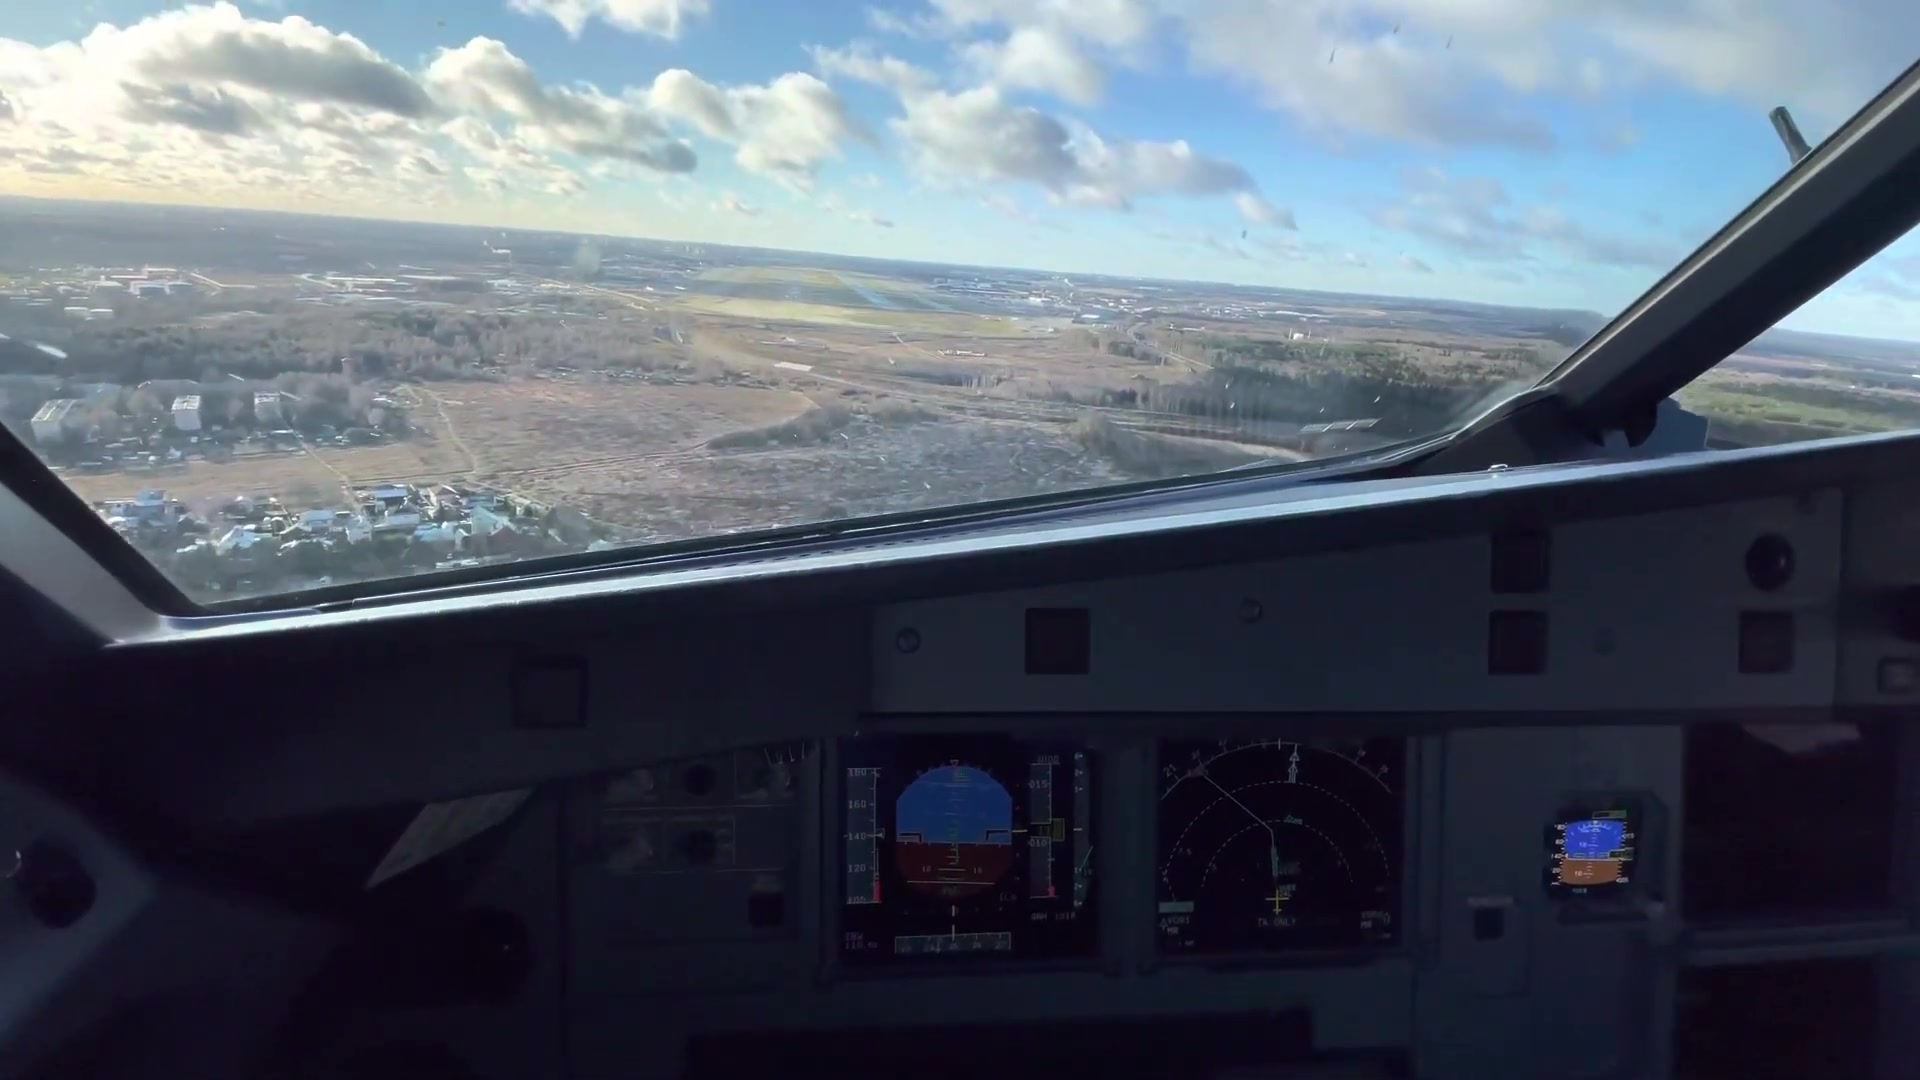runway: (829, 269, 909, 313), (778, 266, 804, 307)
